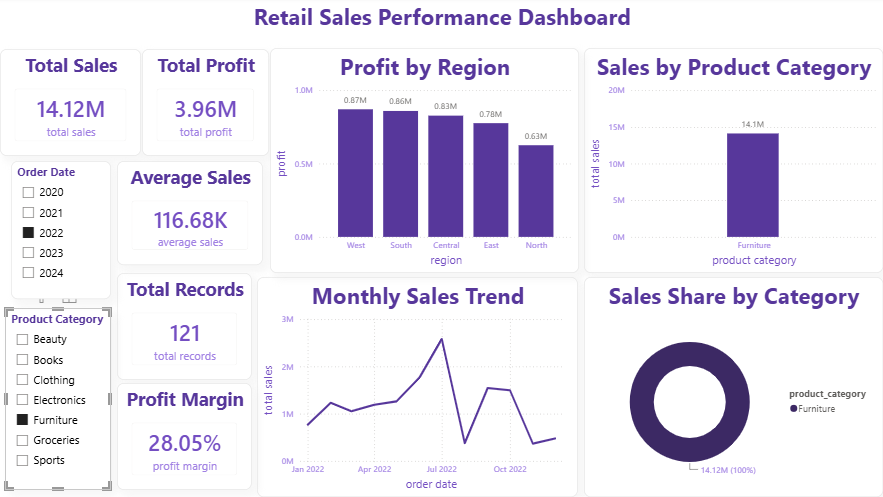

This screenshot's page, from the dashboard's own definition file:
{"tool":"powerbi","page":{"name":"Page 1","canvas":[1280,720],"ordinal":0},"visuals":[{"type":"textbox","box":[0,0,1280,63.4],"z":0},{"type":"cardVisual","title":"Total Sales","fields":{"Data":["Sales.total sales"]},"box":[2.9,74.9,203,154.1],"z":1000},{"type":"cardVisual","title":"Total Records","fields":{"Data":["Sales.total records"]},"box":[171.4,397.4,194.4,154.1],"z":2000},{"type":"cardVisual","title":"Total Profit","fields":{"Data":["Sales.total profit"]},"box":[207.4,74.9,182.9,154.1],"z":3000},{"type":"clusteredColumnChart","title":"Sales by Product Category","fields":{"Y":["Sales.total sales"],"Category":["Sales.product_category"]},"box":[843.8,73.4,430.6,324],"z":4000},{"type":"lineChart","title":"Monthly Sales Trend","fields":{"Y":["Sales.total sales"],"Category":["Sales.order_date.Variation.Date Hierarchy.Year","Sales.order_date.Variation.Date Hierarchy.Month"]},"box":[373,403.2,462.2,316.8],"z":5000},{"type":"donutChart","title":"Sales Share by Category","fields":{"Y":["Sales.total sales"],"Category":["Sales.product_category"]},"box":[843.8,403.2,430.6,316.8],"z":6000},{"type":"slicer","title":"Product Category","fields":{"Values":["Sales.product_category"]},"box":[10.1,447.8,152.6,262.1],"z":7000},{"type":"slicer","title":"Order Date","fields":{"Values":["Sales.order_date.Variation.Date Hierarchy.Year"]},"box":[18.7,236.2,144,198.7],"z":8000},{"type":"cardVisual","title":"Average Sales","fields":{"Data":["Sales.average sales"]},"box":[171.4,236.2,210.2,149.8],"z":9000},{"type":"cardVisual","title":"Profit Margin","fields":{"Data":["Sales.profit margin"]},"box":[171.4,555.8,194.4,154.1],"z":10000},{"type":"clusteredColumnChart","title":"Profit by Region","fields":{"Category":["Sales.region"],"Y":["Sum(Sales.profit)"]},"box":[391.7,73.4,445,324],"z":10001}]}

Visuals, with their boxes in screenshot pixels (x1, y1, x2, y2), scaled from the page's 1280x720 canvas onto the 883x497 screenshot:
textbox: (0,0,882,44)
"Total Sales" cardVisual: (2,52,142,158)
"Total Records" cardVisual: (118,274,252,381)
"Total Profit" cardVisual: (143,52,269,158)
"Sales by Product Category" clusteredColumnChart: (582,51,879,274)
"Monthly Sales Trend" lineChart: (257,278,576,496)
"Sales Share by Category" donutChart: (582,278,879,496)
"Product Category" slicer: (7,309,112,490)
"Order Date" slicer: (13,163,112,300)
"Average Sales" cardVisual: (118,163,263,266)
"Profit Margin" cardVisual: (118,384,252,490)
"Profit by Region" clusteredColumnChart: (270,51,577,274)
